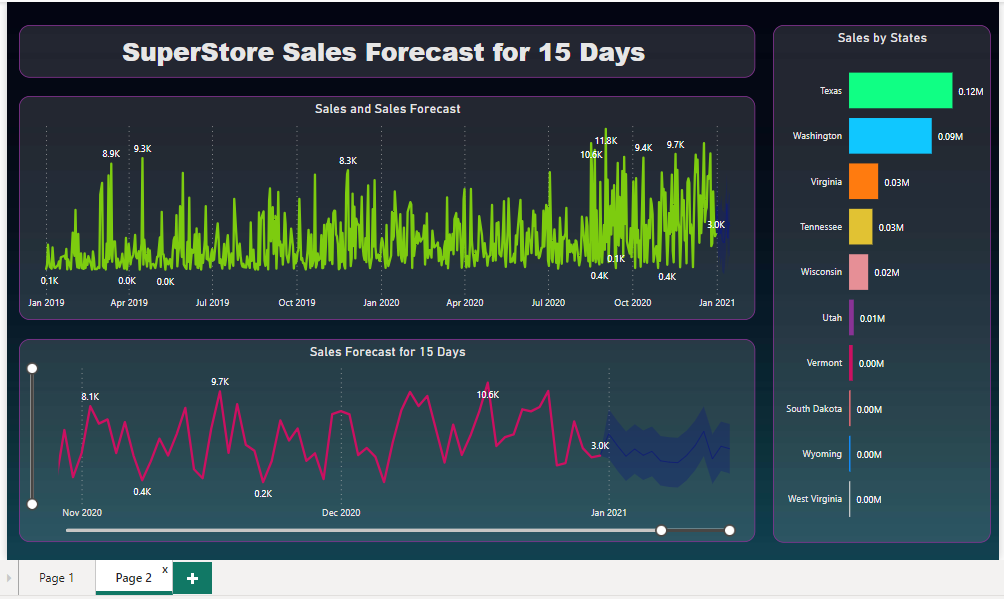

The page's visual inventory and layout, read from the dashboard file:
{"tool":"powerbi","page":{"name":"Page 2","canvas":[1280,720],"ordinal":1},"visuals":[{"type":"lineChart","title":"Sales and Sales Forecast","fields":{"Y":["Sum(SuperStore_Sales_Dataset.Sales)"],"Category":["SuperStore_Sales_Dataset.Order Date.Variation.Date Hierarchy.Year","SuperStore_Sales_Dataset.Order Date.Variation.Date Hierarchy.Quarter","SuperStore_Sales_Dataset.Order Date.Variation.Date Hierarchy.Month","SuperStore_Sales_Dataset.Order Date.Variation.Date Hierarchy.Day"]},"box":[15.6,121.9,949.6,289.1],"z":0},{"type":"lineChart","title":"Sales Forecast for  15 Days","fields":{"Y":["Sum(SuperStore_Sales_Dataset.Sales)"],"Category":["SuperStore_Sales_Dataset.Order Date.Variation.Date Hierarchy.Year","SuperStore_Sales_Dataset.Order Date.Variation.Date Hierarchy.Quarter","SuperStore_Sales_Dataset.Order Date.Variation.Date Hierarchy.Month","SuperStore_Sales_Dataset.Order Date.Variation.Date Hierarchy.Day"]},"box":[15.6,435.1,949.6,262.2],"z":1},{"type":"clusteredBarChart","title":"Sales by States","fields":{"Y":["Sum(SuperStore_Sales_Dataset.Sales)"],"Category":["SuperStore_Sales_Dataset.State"]},"box":[987.9,29.8,280.6,667.6],"z":2},{"type":"textbox","box":[15.6,29.8,949.6,68],"z":3}]}

Visuals, with their boxes on the page's 1280x720 design canvas (x1, y1, x2, y2). These are canvas units, not pixel positions in the 1004x599 screenshot, which may show the page scaled, cropped or inside an application window:
"Sales and Sales Forecast" lineChart: bbox=(16, 122, 965, 411)
"Sales Forecast for  15 Days" lineChart: bbox=(16, 435, 965, 697)
"Sales by States" clusteredBarChart: bbox=(988, 30, 1268, 697)
textbox: bbox=(16, 30, 965, 98)
